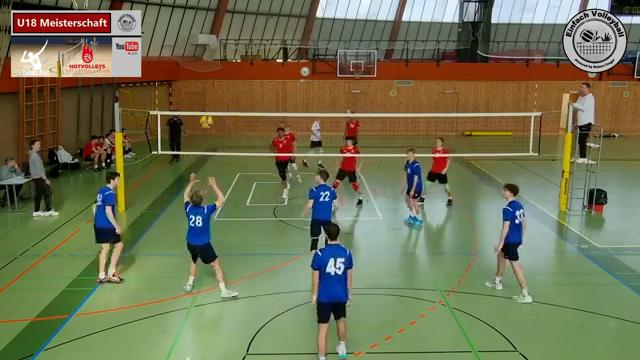ricezione: (181, 170, 244, 304)
